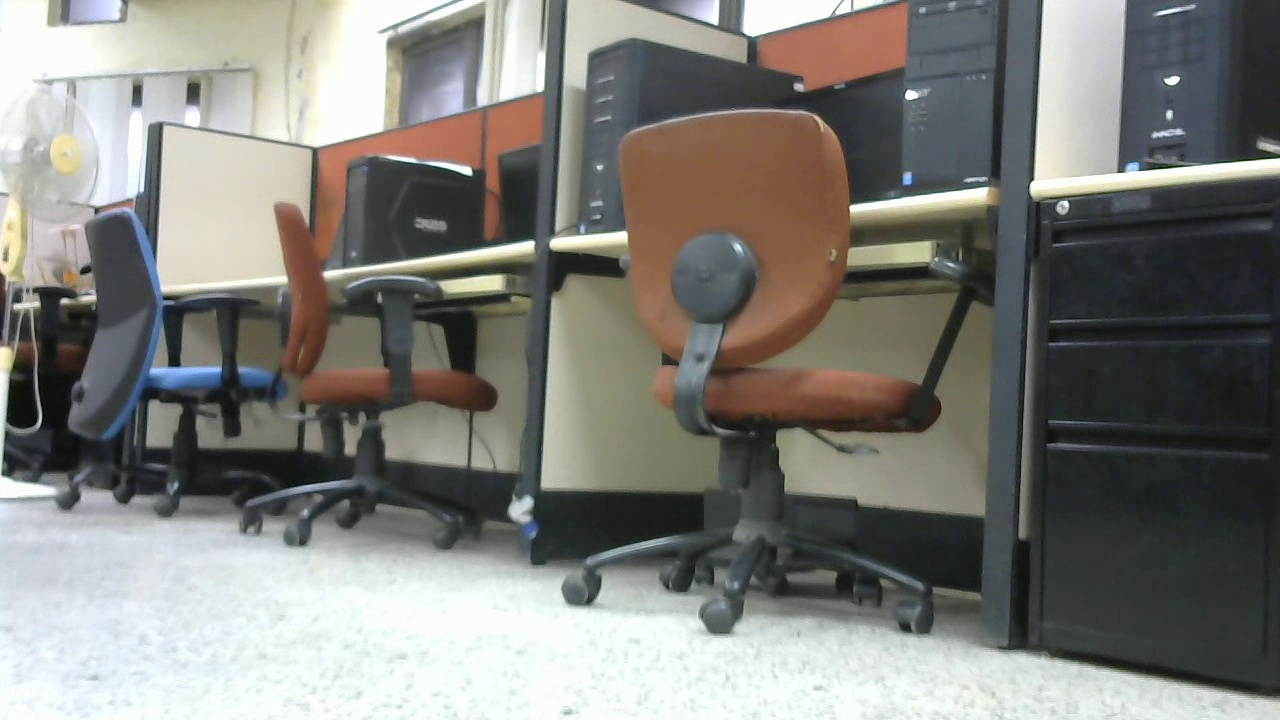chair: (562, 107, 989, 637), (237, 203, 498, 549), (58, 208, 287, 513)
